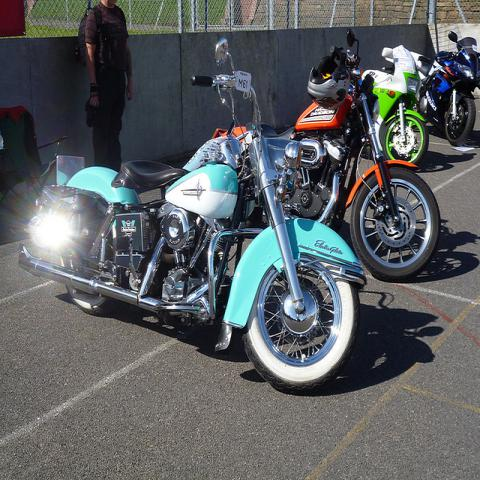motorcycle: (15, 37, 367, 397), (268, 30, 442, 271), (381, 31, 479, 147), (360, 44, 429, 166)
